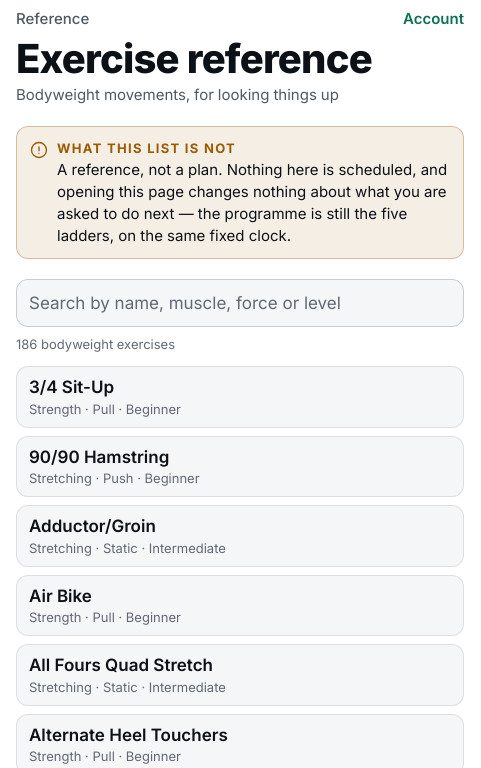
/library › loads the reference lazily and filters it
The width and height of the screenshot is (481, 768).
Check: the text "186 bodyweight exercises" is shown, box [16, 336, 175, 352]
In the search field named "search the exercise reference": [240, 303] box [16, 279, 464, 327], type "plank"
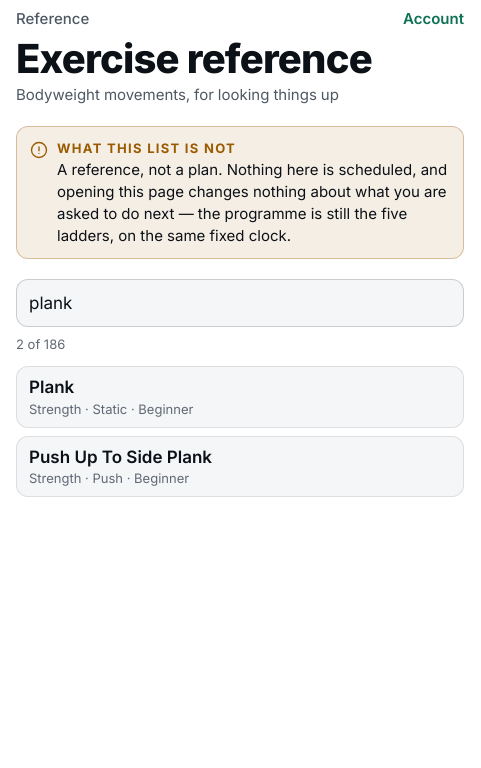
Check: the message shows "of 186", box [16, 336, 65, 352]
